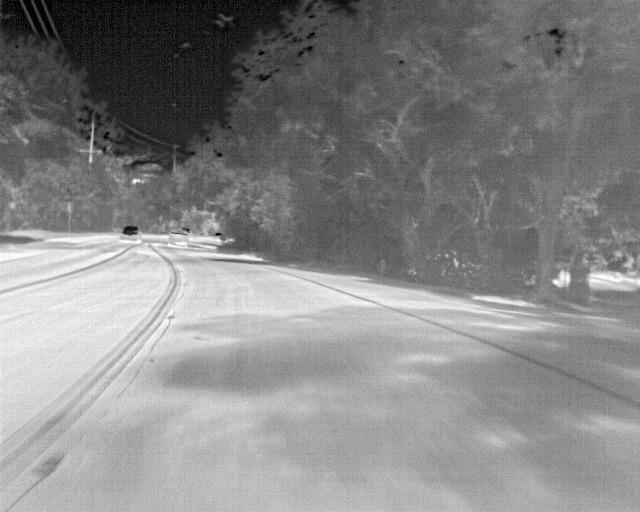car: (165, 227, 188, 247), (120, 224, 141, 244), (212, 232, 225, 244)
